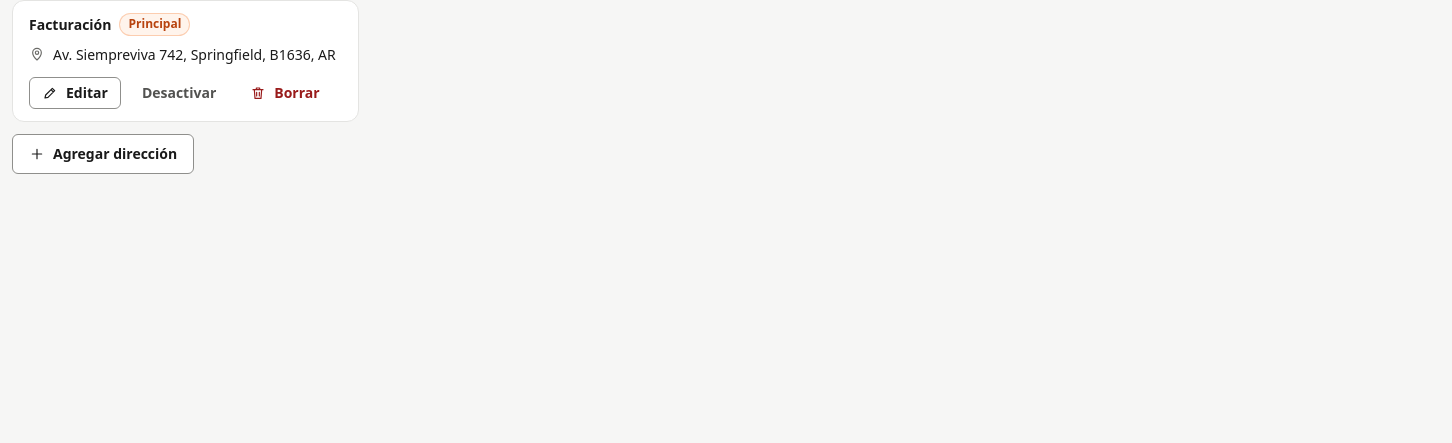
EditorDirecciones · guardado atómico › una dirección de OTRO tipo no cuenta para el principal del tipo nuevo
The width and height of the screenshot is (1452, 443).
Click the button "Agregar dirección".
click(103, 154)  # box left=12, top=134, right=194, bottom=174
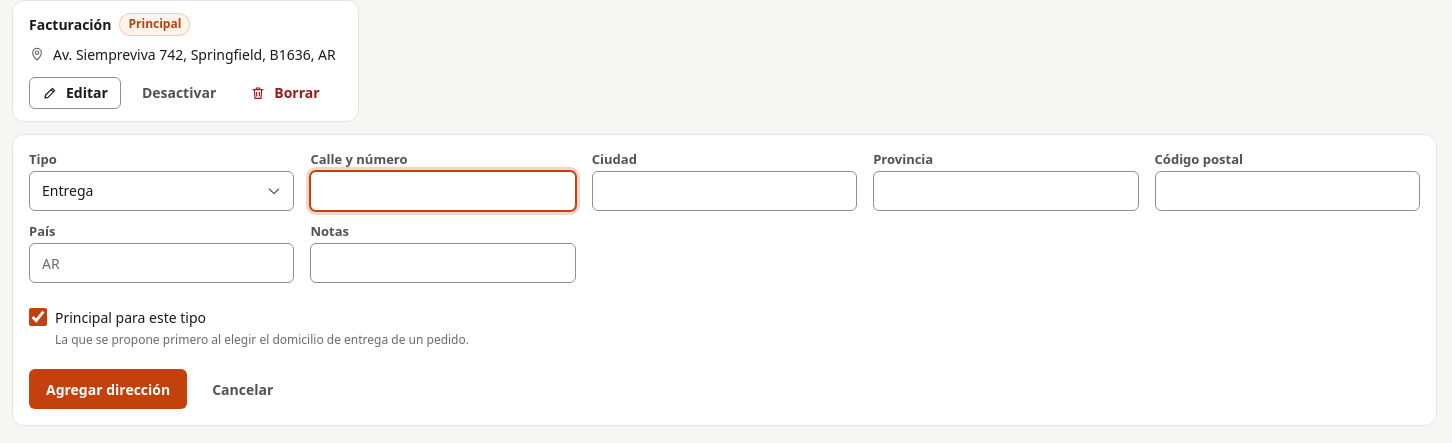
Expected: the checkbox labelled "Principal para este tipo" is checked, left=29, top=308, right=47, bottom=326
